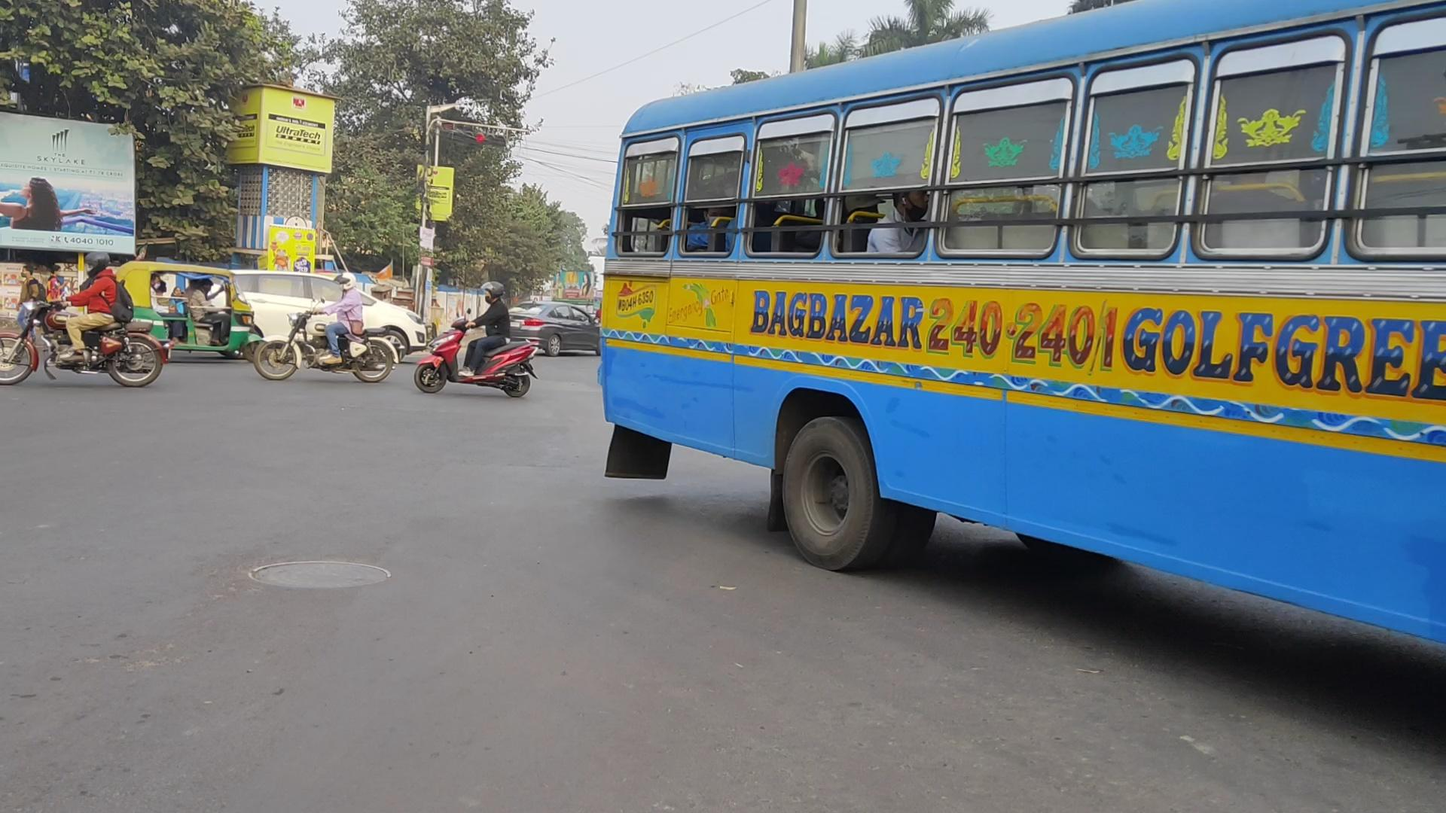Auto: (112, 260, 270, 364)
Bus: (598, 1, 1446, 664)
bike: (1, 251, 174, 388), (253, 272, 400, 383), (414, 281, 539, 399)
car: (201, 268, 427, 363), (503, 299, 606, 358)
